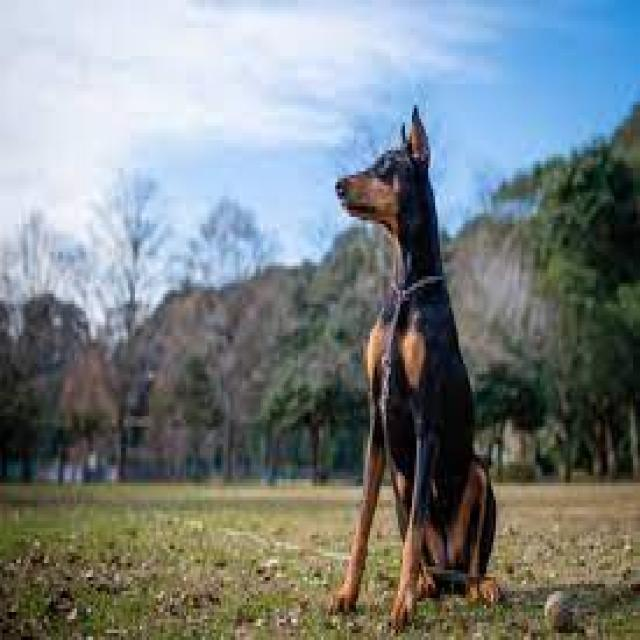Dog: (322, 104, 508, 630)
